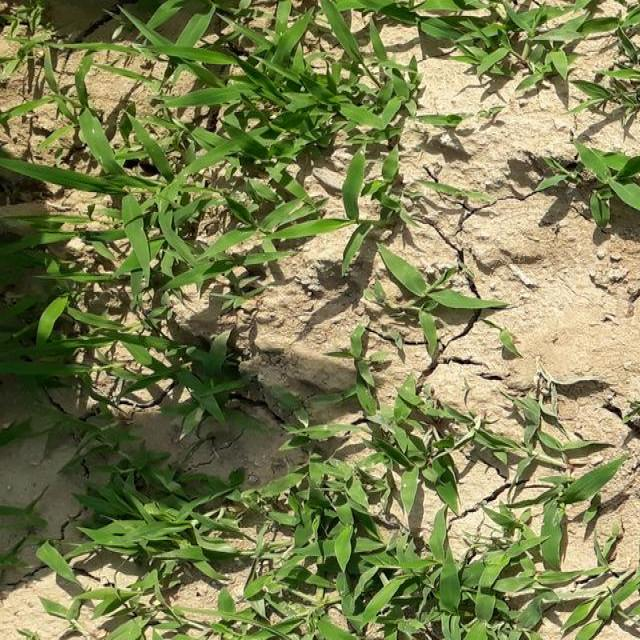weed: (46, 453, 640, 640), (90, 0, 363, 268), (33, 293, 292, 440), (414, 0, 629, 108), (566, 138, 640, 248)
